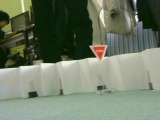stop: (88, 44, 109, 64)
